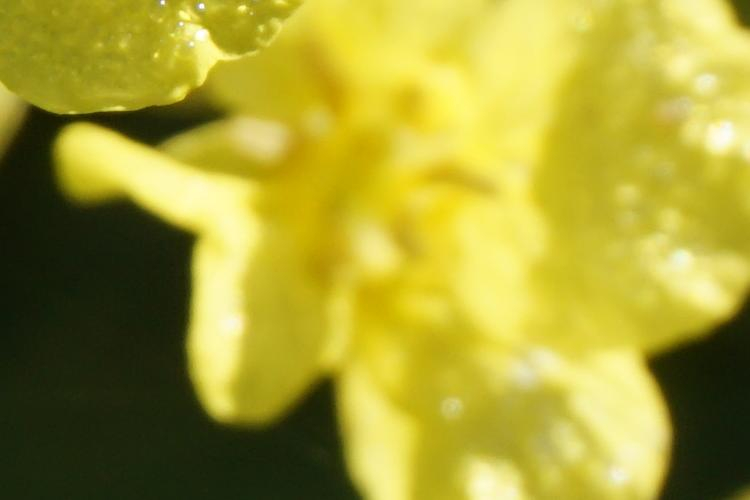yellow: (161, 32, 732, 486), (18, 9, 291, 107)
